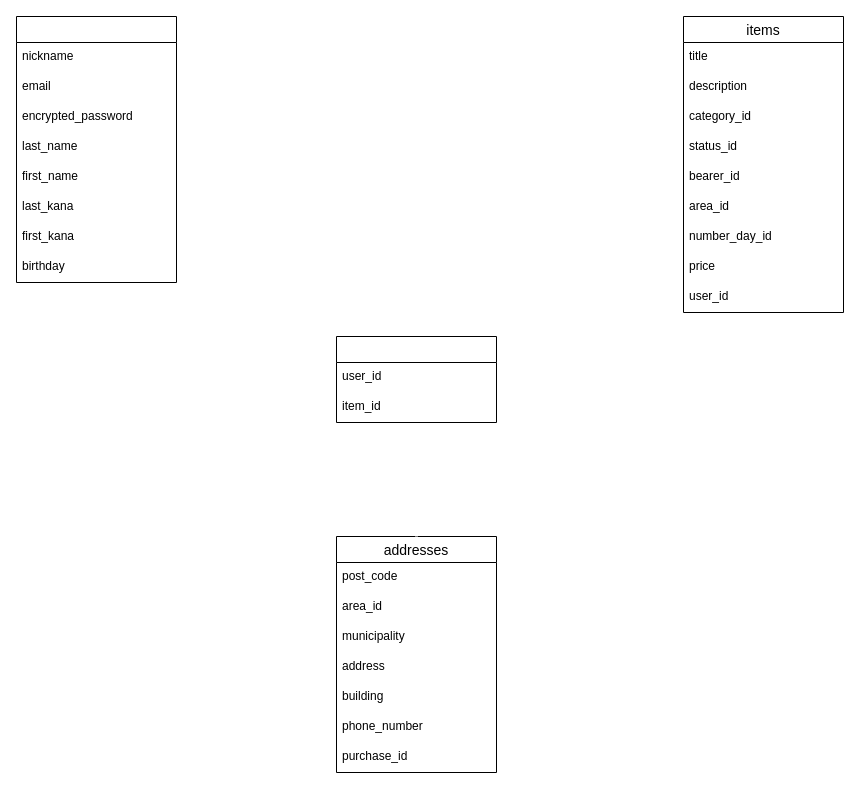
The diagram is 860 pixels wide and 789 high, and some of its shapes have lost their labels. Here are the shapes that lost their labels. From the top down, the box of each, then its label:
(16, 16, 176, 282): users
(336, 336, 496, 422): purchases
